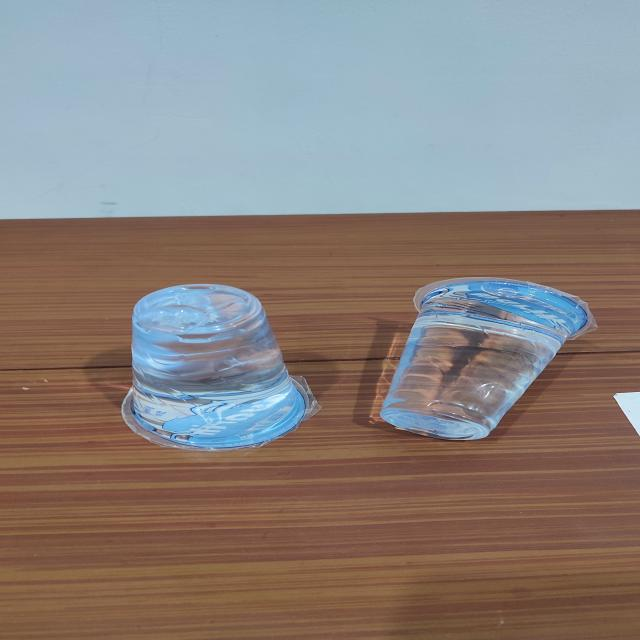air gelas: (364, 264, 606, 450), (102, 279, 338, 455)
